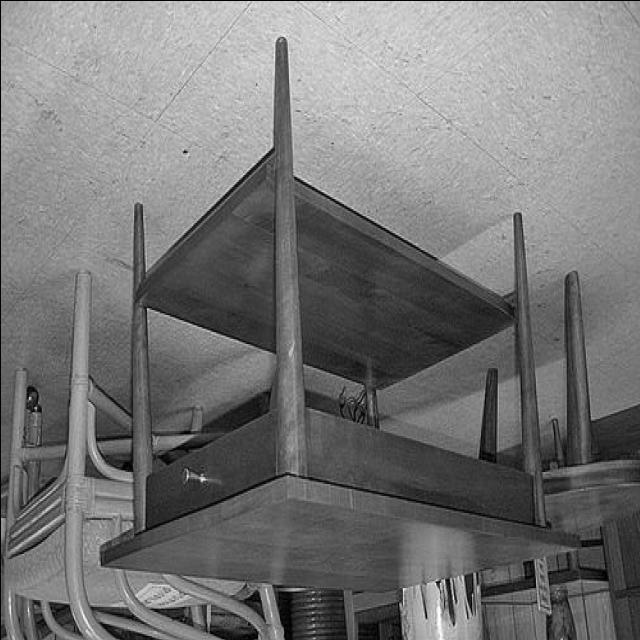table: (100, 37, 570, 595)
